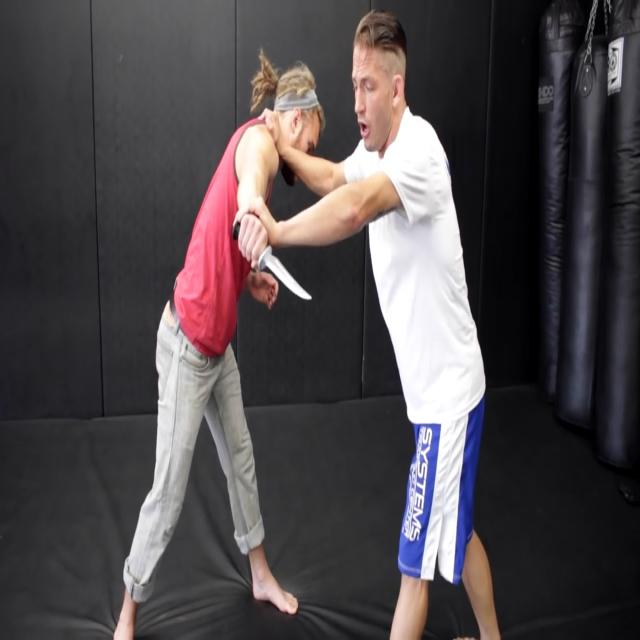knife: (233, 223, 319, 310)
